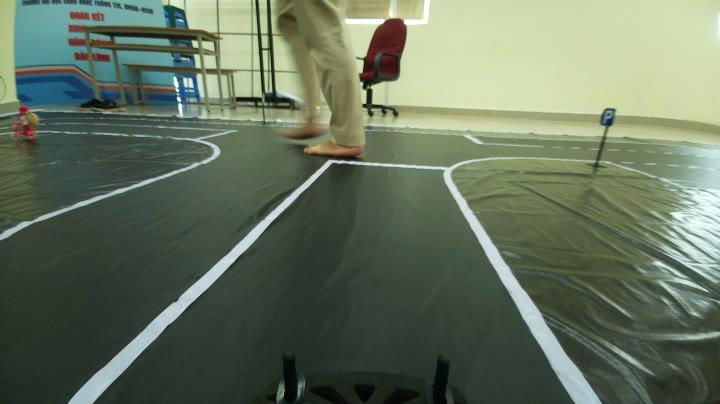parking: (592, 104, 620, 126)
